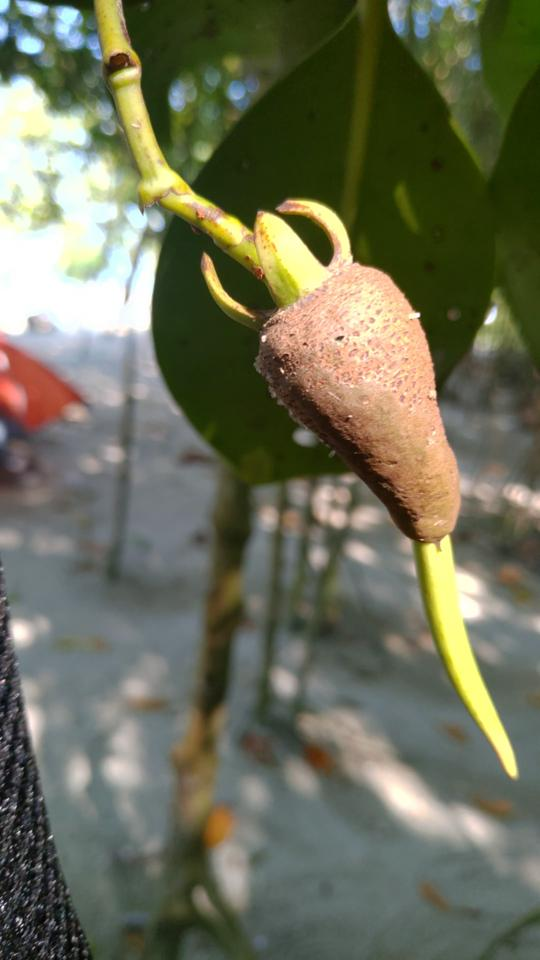mentah: (185, 164, 535, 788)
